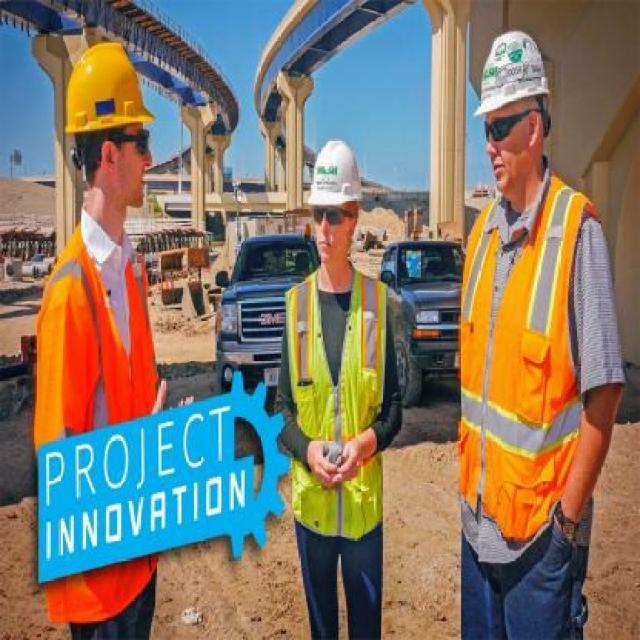helmet: (63, 40, 155, 138), (469, 22, 556, 119), (305, 131, 368, 215)
vest: (455, 192, 599, 576), (276, 272, 402, 558), (41, 255, 163, 417)
